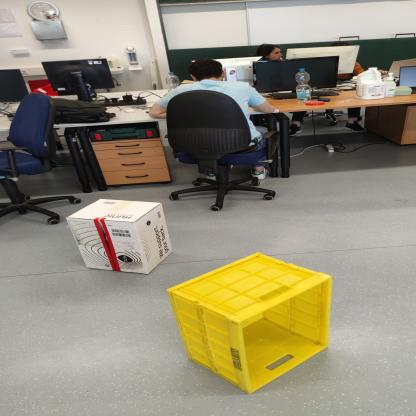box: (163, 250, 337, 404), (64, 192, 178, 278)
